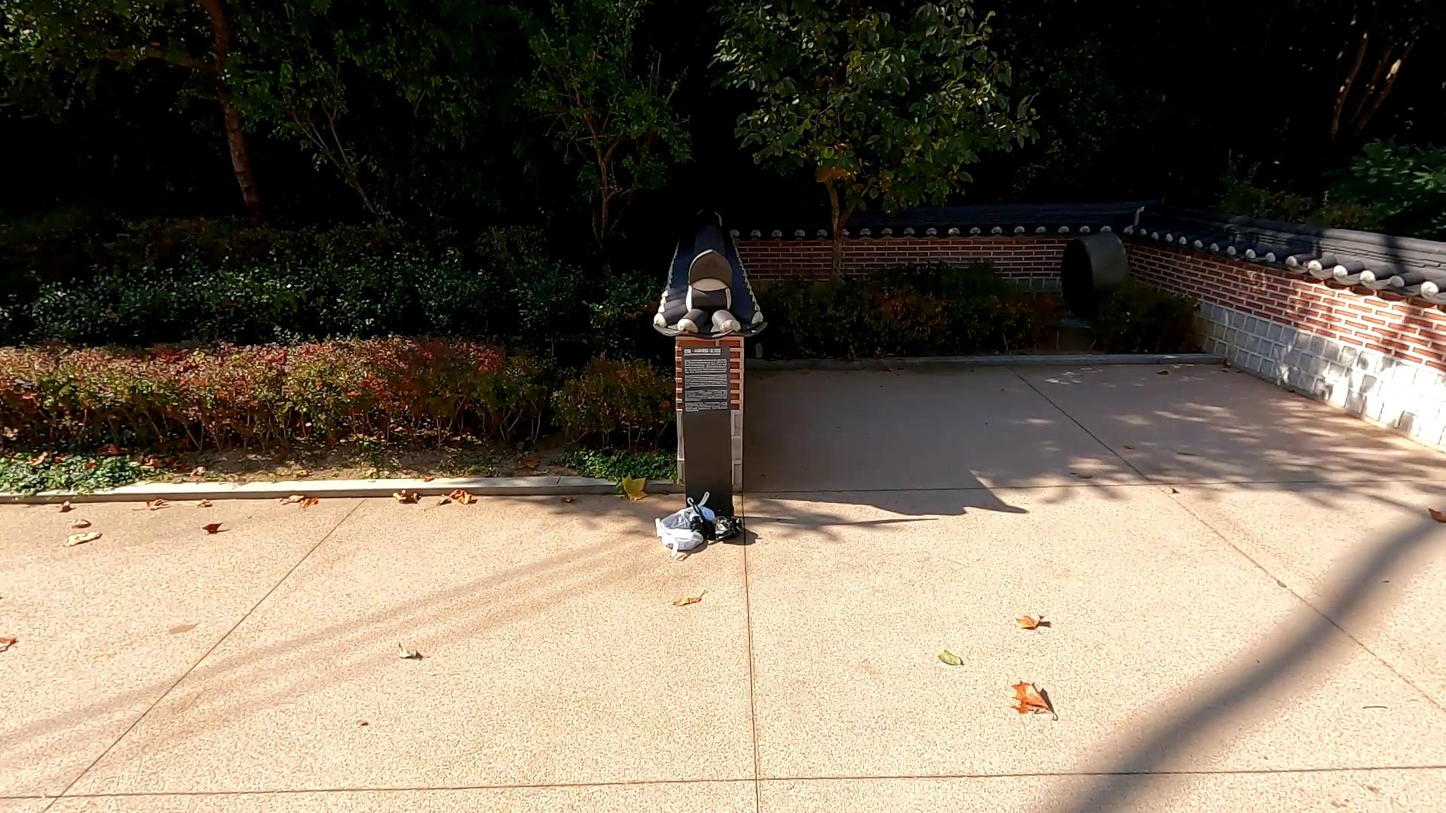trash: (654, 492, 715, 536), (658, 526, 705, 553), (690, 505, 714, 546), (712, 515, 744, 542)
